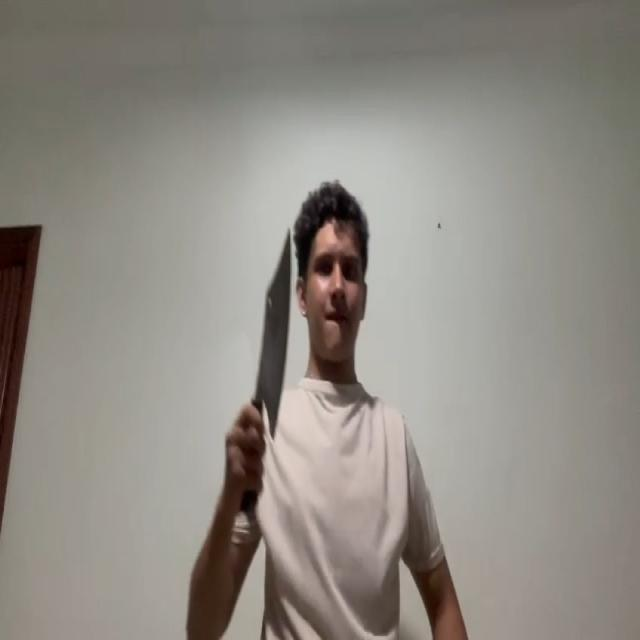knife: (254, 228, 293, 438)
